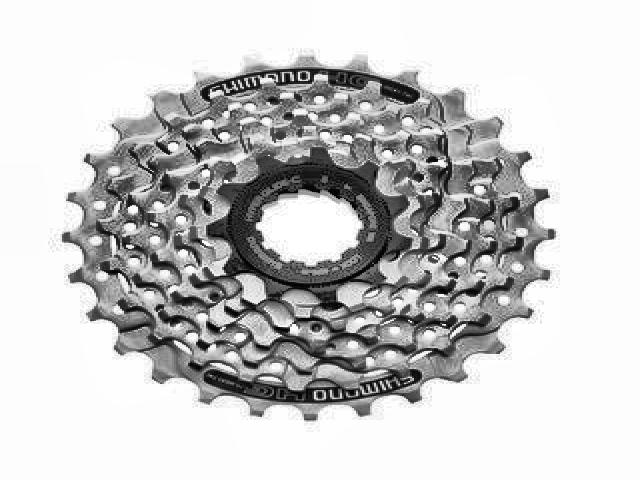cassette: (61, 53, 556, 420)
